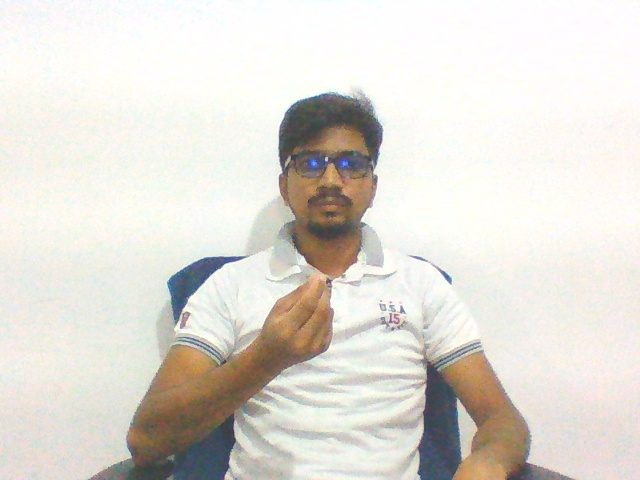dog: (249, 265, 341, 379)
